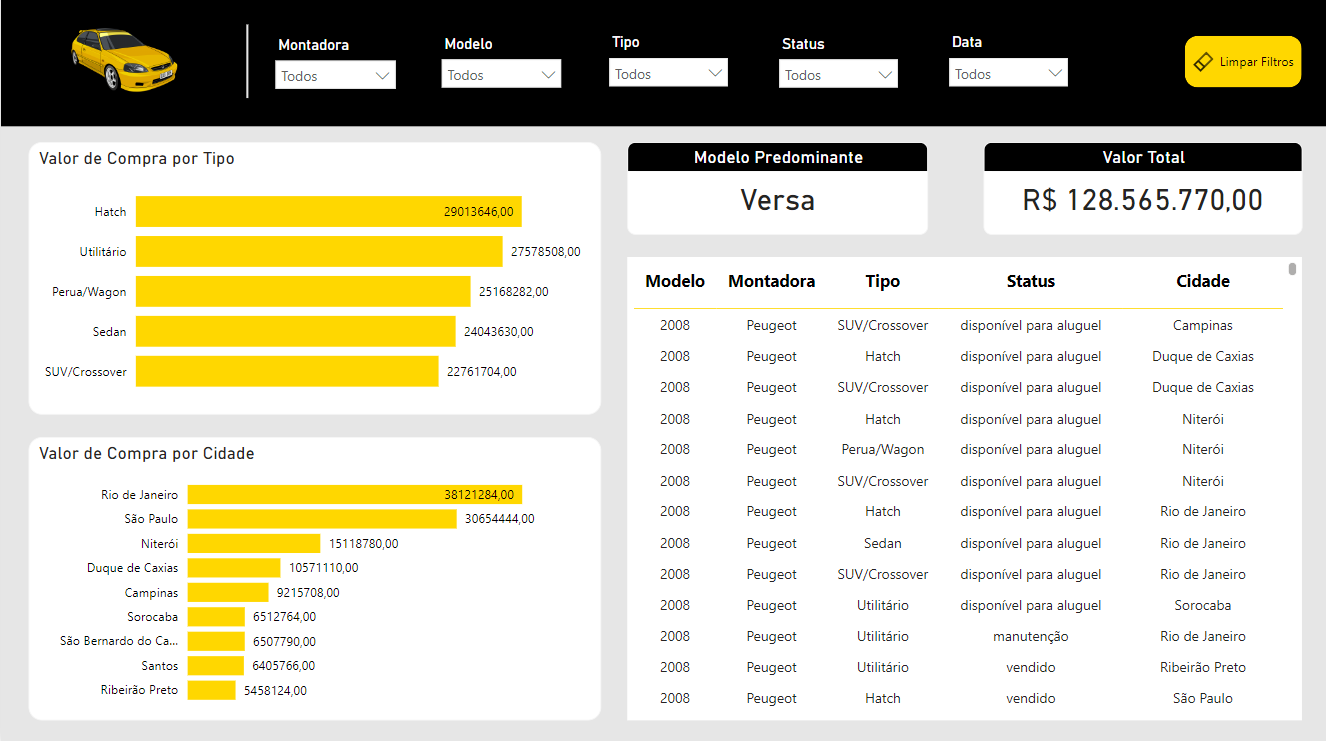

The page's visual inventory and layout, read from the dashboard file:
{"tool":"powerbi","page":{"name":"Overview Compras","canvas":[1280,720],"ordinal":0},"visuals":[{"type":"shape","box":[0,0,1280,125],"z":0},{"type":"shape","box":[200,27,75,71],"z":1000},{"type":"actionButton","box":[1142,38,113,50],"z":2000},{"type":"slicer","title":"Mês","fields":{"Values":["public dim_veiculo.montadora"]},"box":[254.5,32.2,136.1,61.5],"z":3000},{"type":"slicer","title":"Mês","fields":{"Values":["public dim_veiculo.modelo"]},"box":[415.3,31.6,135.8,61.7],"z":4000},{"type":"card","title":"Valor Total","fields":{"Values":["_Medidas.Valor Total"]},"box":[948.3,139.9,307.6,89.3],"z":5000},{"type":"clusteredBarChart","title":"Valor de Compra por Tipo","fields":{"Y":["Sum(public ft_compra.preco_compra)"],"Category":["public dim_veiculo.tipo"]},"box":[26.5,139.9,552.5,263],"z":6000},{"type":"slicer","title":"Mês","fields":{"Values":["public dim_veiculo.tipo"]},"box":[576.5,30.2,135.1,62.7],"z":7000},{"type":"slicer","title":"Mês","fields":{"Values":["public dim_veiculo.status"]},"box":[740.5,31.4,135.1,62.7],"z":8000},{"type":"clusteredBarChart","title":"Valor de Compra por Cidade","fields":{"Y":["Sum(public ft_compra.preco_compra)"],"Category":["public dim_filial.cidade"]},"box":[26.5,424.7,552.5,273.9],"z":9000},{"type":"slicer","title":"Mês","fields":{"Values":["public dim_data.nk_data.Variation.Hierarquia de datas.Ano","public dim_data.nk_data.Variation.Hierarquia de datas.Mês"]},"box":[904.6,30.2,135.1,62.7],"z":10000},{"type":"card","title":"Modelo Predominante","fields":{"Values":["_Medidas.ModeloPredominante"]},"box":[604.4,139.9,290.8,89.3],"z":11000},{"type":"tableEx","fields":{"Values":["public dim_veiculo.modelo","public dim_veiculo.montadora","public dim_veiculo.tipo","public dim_veiculo.status","public dim_filial.cidade"]},"box":[604.4,250.9,651.5,447.6],"z":12000},{"type":"image","box":[36.2,0,165.3,125.5],"z":13000}]}

Visuals, with their boxes in screenshot pixels (x1, y1, x2, y2), scaled from the page's 1280x720 canvas onto the 1326x741 screenshot:
shape: (0, 0, 1325, 129)
shape: (207, 28, 285, 101)
actionButton: (1183, 39, 1300, 91)
"Mês" slicer: (264, 33, 405, 96)
"Mês" slicer: (430, 33, 571, 96)
"Valor Total" card: (982, 144, 1301, 236)
"Valor de Compra por Tipo" clusteredBarChart: (27, 144, 600, 415)
"Mês" slicer: (597, 31, 737, 96)
"Mês" slicer: (767, 32, 907, 97)
"Valor de Compra por Cidade" clusteredBarChart: (27, 437, 600, 719)
"Mês" slicer: (937, 31, 1077, 96)
"Modelo Predominante" card: (626, 144, 927, 236)
tableEx - public dim_veiculo.modelo x public dim_veiculo.montadora: (626, 258, 1301, 719)
image: (38, 0, 209, 129)
